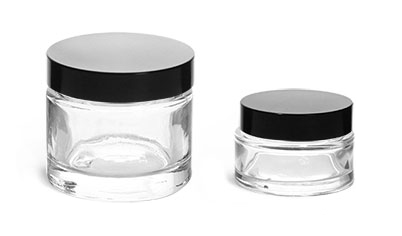glass_bottle: (41, 29, 195, 204), (230, 87, 357, 199)
